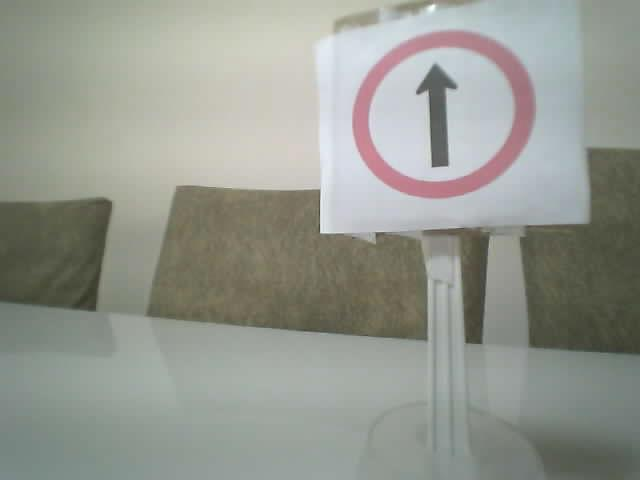R-26_frente: (352, 30, 531, 197)
